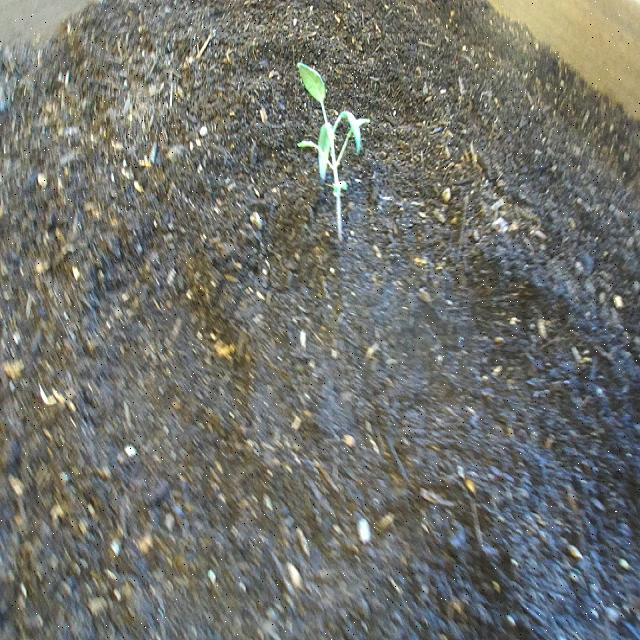Healthy: (294, 58, 373, 249)
